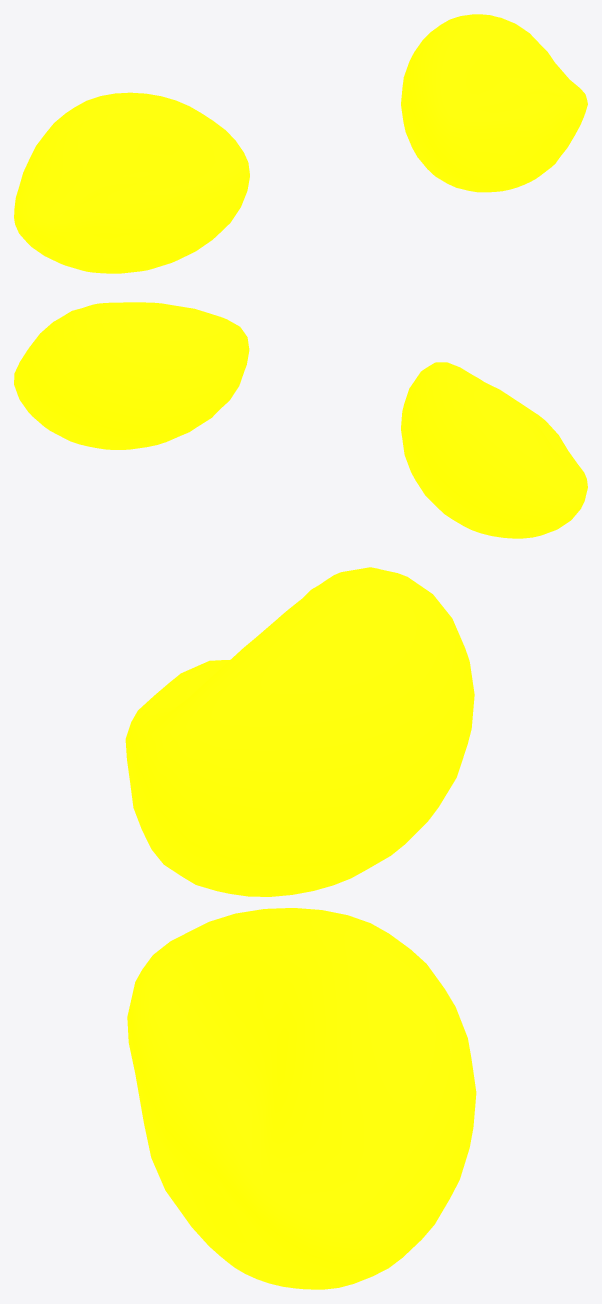
File: Zombie-Yellow.glb
3 views of the same model, one above another, from view 1: azimuth 30°, elevation 25°; view 2: azimuth 150°, elevation 25°; view 3: azimuth 270°, elevation 25° (orthographic). The views are drawn at different scales.
Visible parts, largest first — view 1: Sphere.001; view 2: Sphere.001; view 3: Sphere.001.
Part boxes in pixels (box(x1,y1,x2,y2)): Sphere.001: box(14, 14, 587, 273); Sphere.001: box(14, 302, 587, 538); Sphere.001: box(125, 567, 476, 1289).
Bounding box in the file's own units: 0.3788 × 0.1042 × 0.1024.
